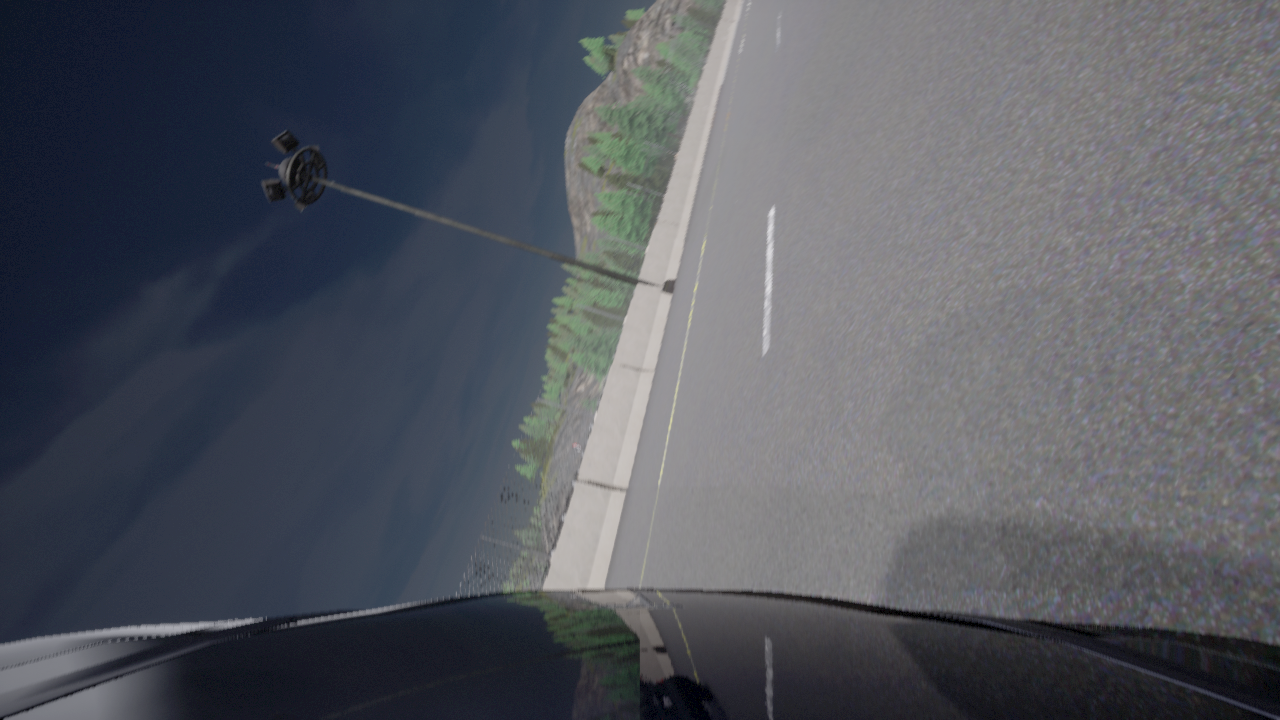cyclist: (0, 588, 1279, 719)
